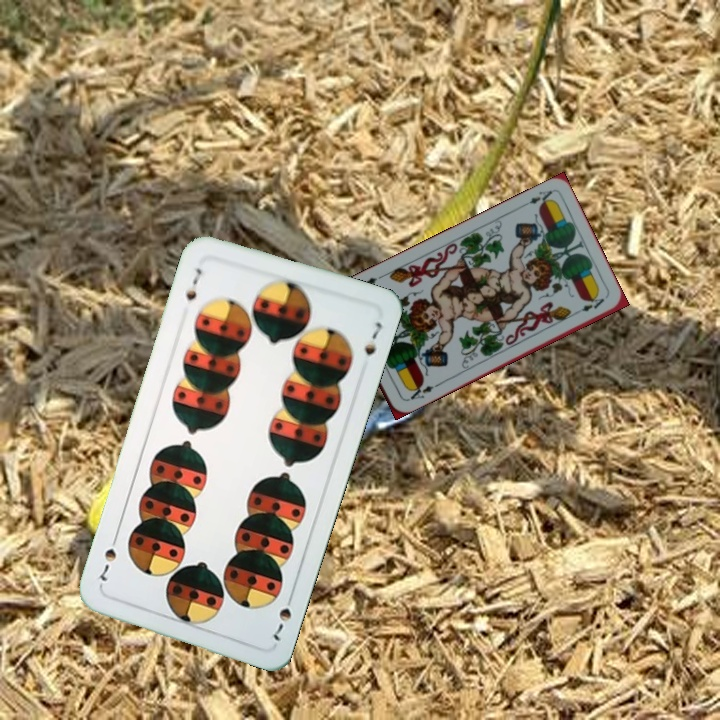EA: (403, 379, 441, 404), (517, 186, 555, 210)
S7: (267, 588, 297, 644), (181, 264, 205, 303)
